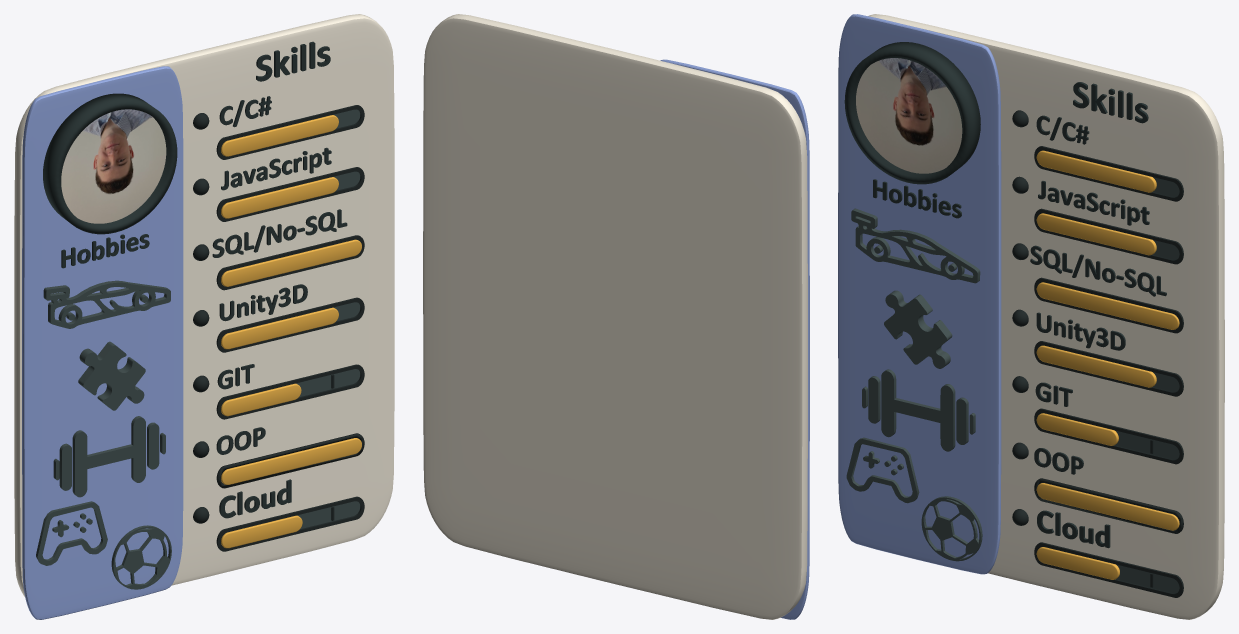
3 views of the same model, side by side, from view 1: azimuth 30°, elevation 25°; view 2: azimuth 150°, elevation 25°; view 3: azimuth 330°, elevation 25° (orthographic).
Parts seen in each view (by area): view 1: Main_Side, Left_Side, Picture, Picture_frame, hob3, hob1, hob2, Progress3, Progress6, ProgressBase5, ProgressBase7, Progress2 (+19 smaller); view 2: Main_Side, Left_Side; view 3: Main_Side, Left_Side, Picture, Picture_frame, hob3, hob1, hob2, Progress6, Progress3, ProgressBase5, ProgressBase7, Progress4 (+19 smaller).
Part boxes in pixels (<box>): Main_Side: <box>14,14,394,597</box>; Left_Side: <box>22,66,183,619</box>; Picture: <box>61,109,166,223</box>; Picture_frame: <box>43,93,177,234</box>; hob3: <box>53,416,165,497</box>; hob1: <box>43,280,170,328</box>; hob2: <box>78,341,145,410</box>; Progress3: <box>221,239,361,286</box>; Progress6: <box>221,438,361,484</box>; ProgressBase5: <box>216,364,364,419</box>; ProgressBase7: <box>216,496,364,551</box>; Progress2: <box>221,177,338,218</box>; Main_Side: <box>423,14,807,619</box>; Left_Side: <box>660,59,809,619</box>; Main_Side: <box>868,14,1224,619</box>; Left_Side: <box>838,14,1001,574</box>; Picture: <box>856,58,962,173</box>; Picture_frame: <box>844,42,980,184</box>; hob3: <box>862,369,975,451</box>; hob1: <box>851,208,980,283</box>; hob2: <box>884,290,952,368</box>; Progress6: <box>1036,483,1179,530</box>; Progress3: <box>1036,282,1179,329</box>; ProgressBase5: <box>1034,408,1183,464</box>; ProgressBase7: <box>1034,542,1183,597</box>; Progress4: <box>1036,345,1156,387</box>.
Bounding box in the file's own units: 3 × 4 × 0.2948.
Materials: 7 (1 with a texture image).
